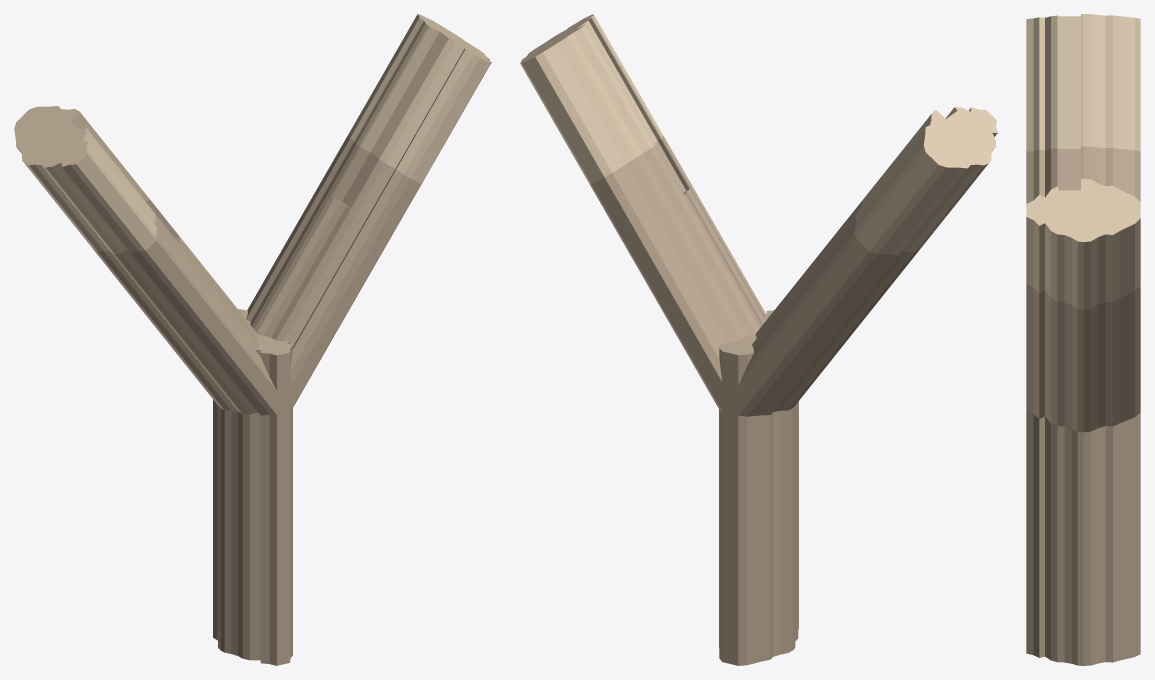
File: R42_BRANCHING_JOINT_AND_REBATES.glb
The picture shows the model from 3 angles, left to right: view 1: azimuth 30°, elevation 25°; view 2: azimuth 150°, elevation 25°; view 3: azimuth 270°, elevation 25°; orthographic projection. The views are drawn at different scales.
Visible parts, largest first — view 1: R42_Y_junction_ashlar, R42_extension_stone_2, R42_extension_stone_1; view 2: R42_Y_junction_ashlar, R42_extension_stone_2, R42_extension_stone_1; view 3: R42_Y_junction_ashlar, R42_extension_stone_1, R42_extension_stone_2.
Part boxes in pixels (left/top/right/bottom): R42_Y_junction_ashlar: left=92, top=135, right=421, bottom=665; R42_extension_stone_2: left=348, top=14, right=491, bottom=183; R42_extension_stone_1: left=14, top=106, right=157, bottom=253; R42_Y_junction_ashlar: left=589, top=136, right=919, bottom=665; R42_extension_stone_2: left=520, top=14, right=663, bottom=183; R42_extension_stone_1: left=854, top=107, right=997, bottom=255; R42_Y_junction_ashlar: left=1026, top=146, right=1140, bottom=665; R42_extension_stone_1: left=1026, top=14, right=1140, bottom=151; R42_extension_stone_2: left=1026, top=178, right=1140, bottom=309.
Bounding box in the file's own units: 0.6244 × 0.749 × 0.14.
